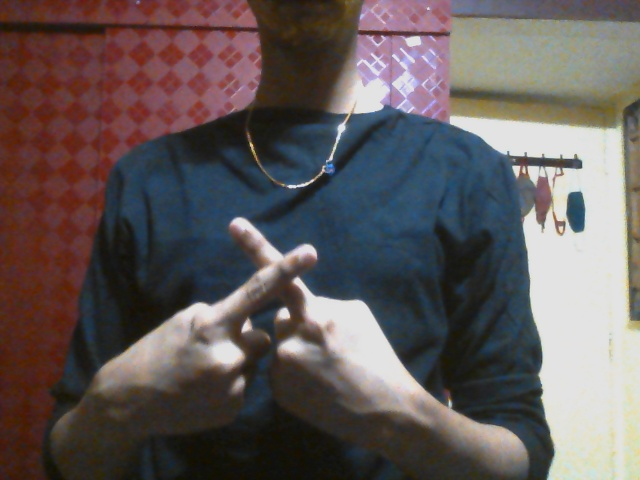X: (133, 217, 384, 446)
